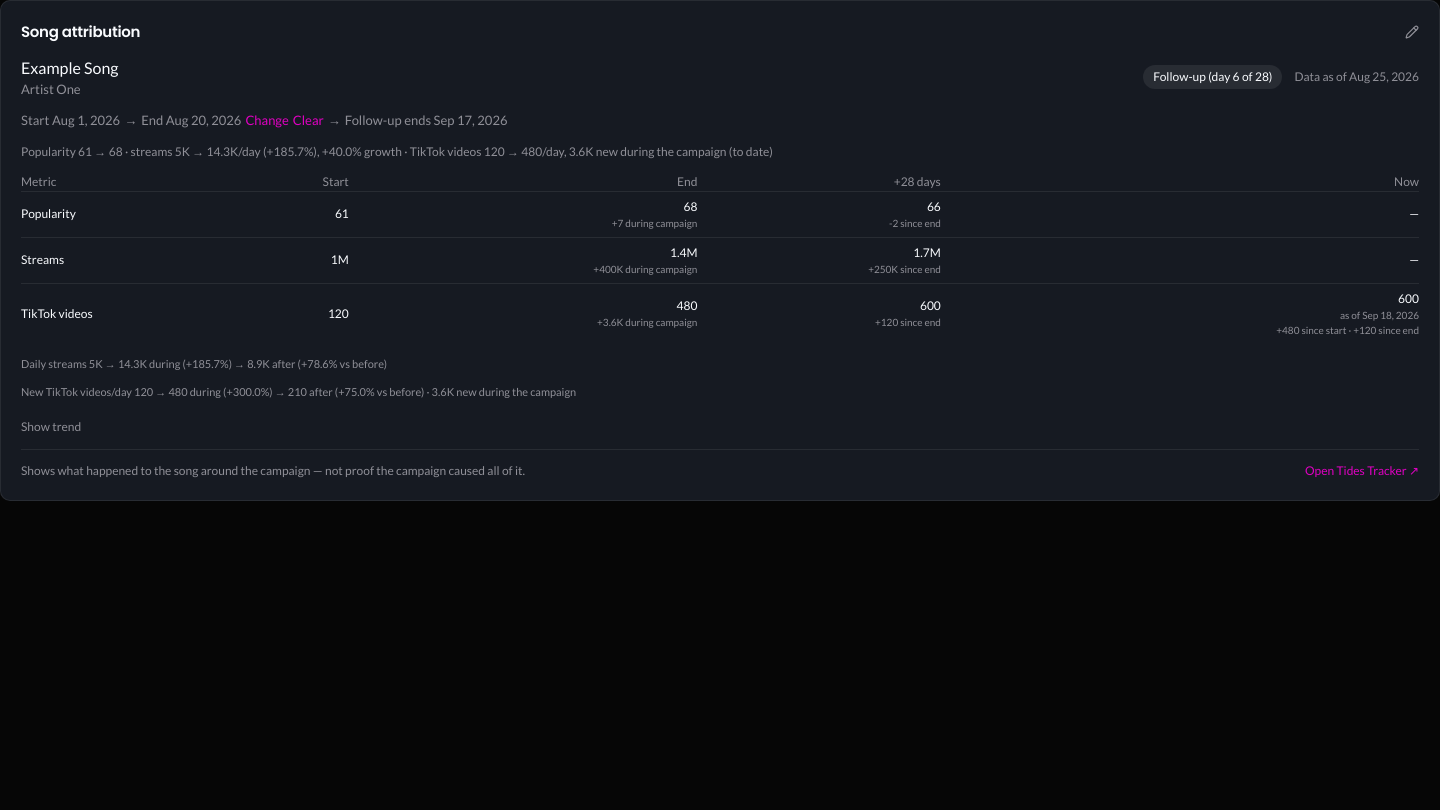
Test: <PopScoreCard /> attribution › switches the selected chart series with the toggle
The width and height of the screenshot is (1440, 810).
Click the button "Show trend".
click(51, 426)  # box [21, 418, 81, 436]
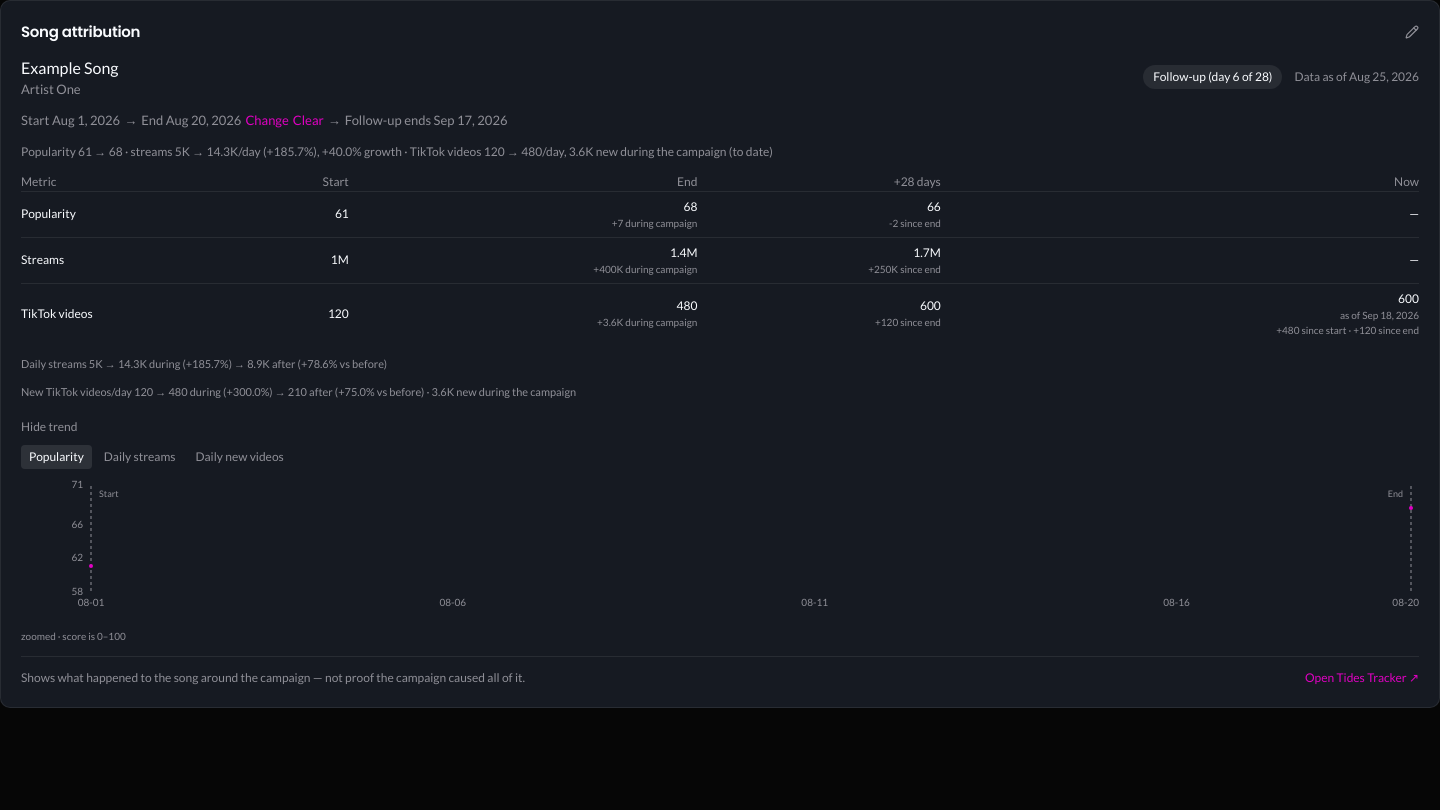
Result: the picture named "Popularity trend chart" is shown at [21, 476, 1419, 620]
Click the button "Daily streams".
click(140, 456)  # box [96, 444, 184, 468]
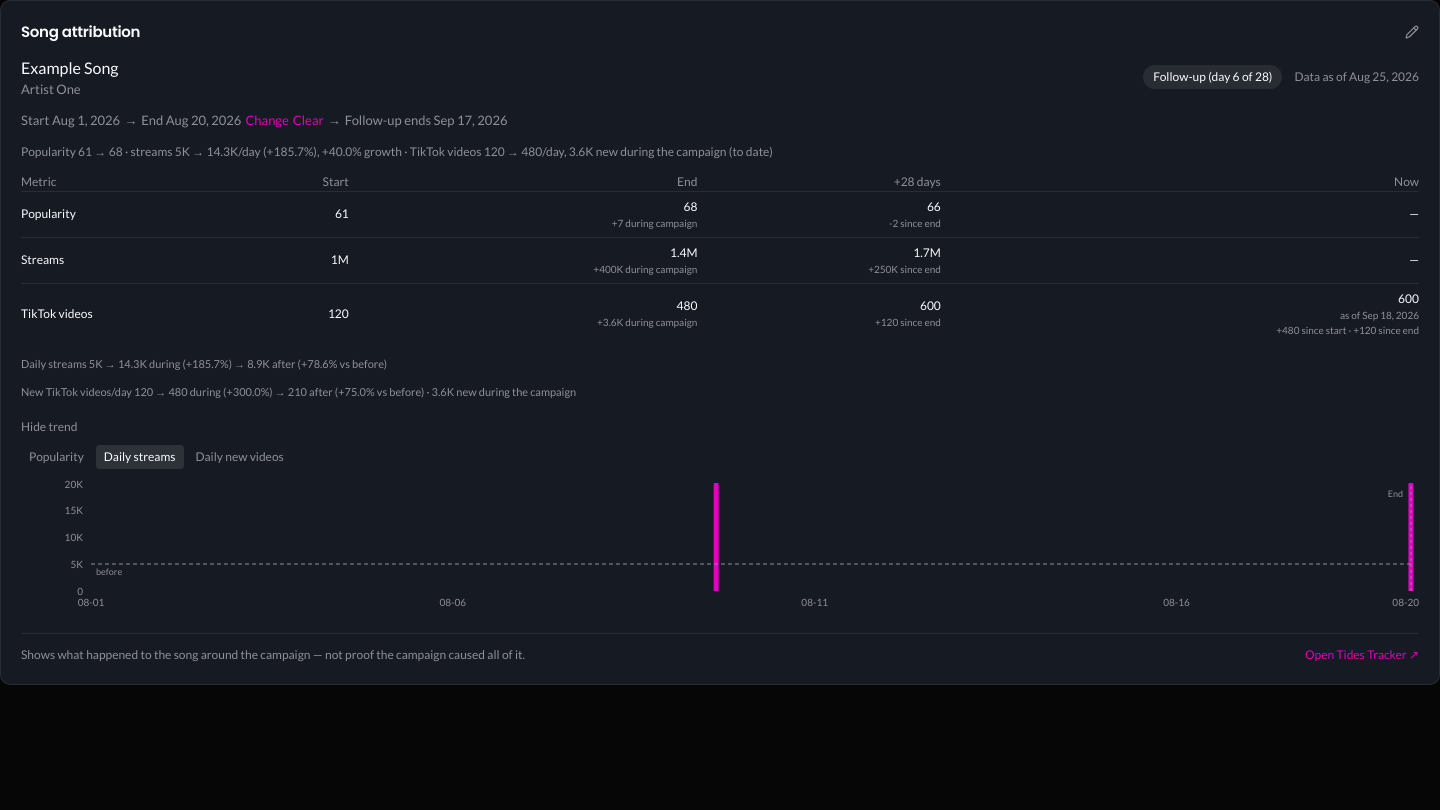
Expected: the element with class "recharts-bar-rectangle" is shown, [714, 482, 719, 590]
Result: the picture named "Daily streams trend chart" is shown at [21, 476, 1419, 620]
Click the button "Daily new videos".
click(240, 456)  # box [188, 444, 292, 468]
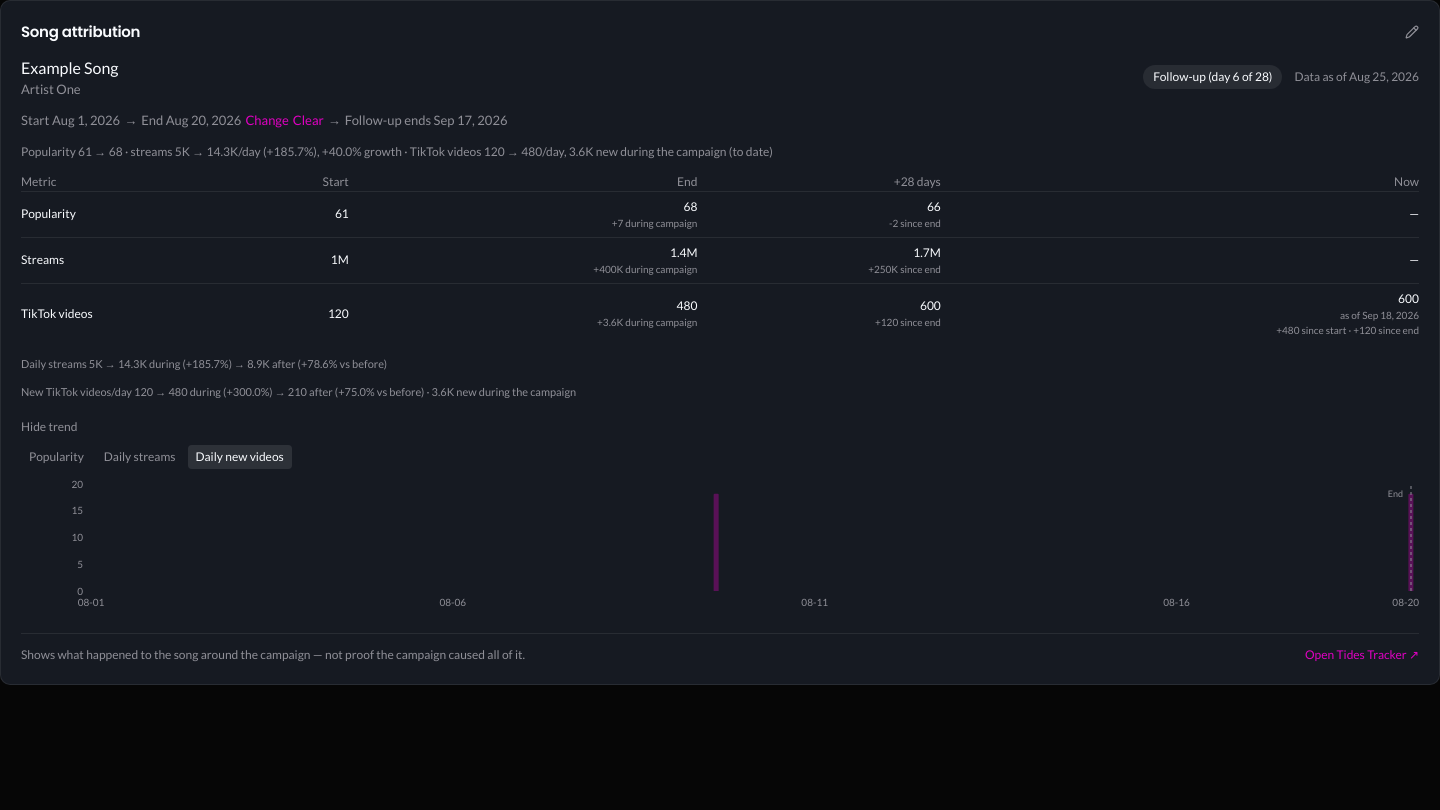
Expected: the element with class "recharts-bar-rectangle" is shown, [714, 493, 719, 590]
Result: the picture named "Daily new videos trend chart" is shown at [21, 476, 1419, 620]
